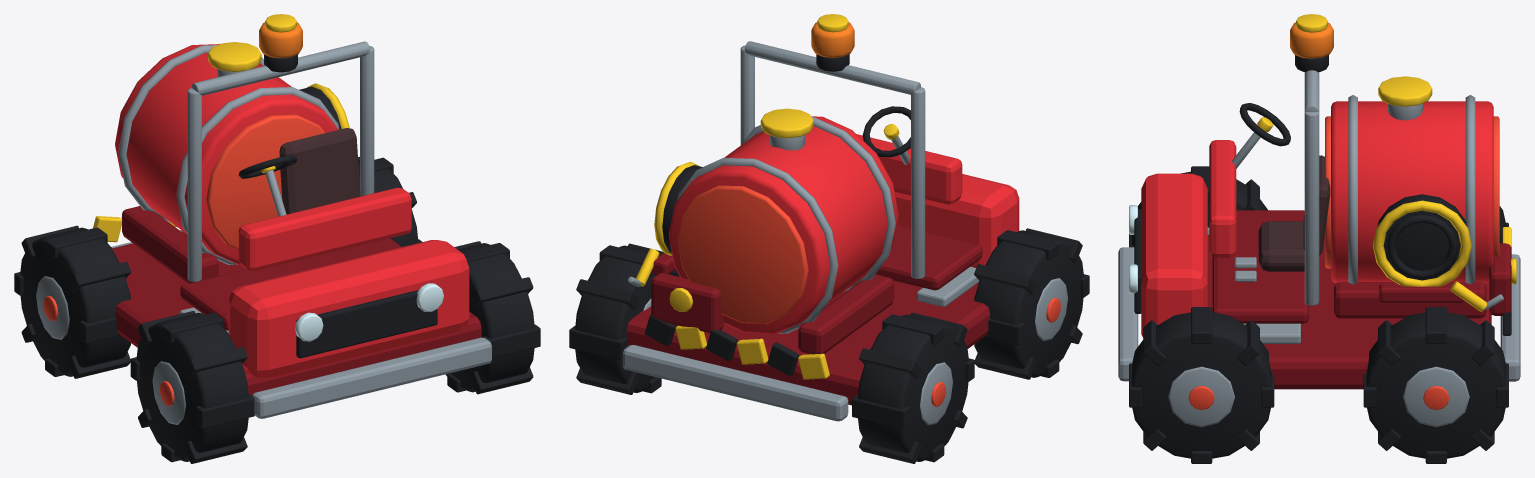
Rendered from FTF_Vehicle_FuelTruck_Red_4m.glb.
3 renders of one model, left to right at view 1: azimuth 30°, elevation 25°; view 2: azimuth 150°, elevation 25°; view 3: azimuth 270°, elevation 25°, orthographic. The views are drawn at different scales.
Parts seen in each view (by area): view 1: Short_Cab_Nose, Fuel_Tank, Wheel_FL_Tire, Wheel_RL_Tire, Dashboard, Main_Chassis, Tank_Front_End, Front_Bumper, Driver_Seat_Back, Wheel_FR_Tire, Wheel_FL, Front_Grille (+17 smaller); view 2: Fuel_Tank, Tank_Rear_End, Main_Chassis, Wheel_RL_Tire, Wheel_FL_Tire, Rear_Bumper, Short_Cab_Nose, Wheel_RR_Tire, Wheel_RL, Wheel_FL, Tank_Left_Saddle, Driver_Platform (+22 smaller); view 3: Fuel_Tank, Wheel_FR_Tire, Wheel_RR_Tire, Short_Cab_Nose, Main_Chassis, Driver_Platform, Wheel_FR, Wheel_RR, Hose_Reel_Drum, Tank_Right_Saddle, Dashboard, SafetyBar_Right (+28 smaller).
Part boxes in pixels (x1=…): Short_Cab_Nose: x1=228, y1=240, x2=469, y2=378; Fuel_Tank: x1=115, y1=44, x2=338, y2=264; Wheel_FL_Tire: x1=136, y1=312, x2=248, y2=461; Wheel_RL_Tire: x1=20, y1=227, x2=130, y2=376; Dashboard: x1=238, y1=187, x2=411, y2=271; Main_Chassis: x1=112, y1=231, x2=481, y2=395; Tank_Front_End: x1=206, y1=114, x2=324, y2=249; Front_Bumper: x1=252, y1=337, x2=491, y2=418; Driver_Seat_Back: x1=279, y1=128, x2=360, y2=214; Wheel_FR_Tire: x1=445, y1=243, x2=534, y2=392; Wheel_FL: x1=130, y1=311, x2=254, y2=463; Front_Grille: x1=296, y1=290, x2=437, y2=358; Fuel_Tank: x1=668, y1=116, x2=898, y2=334; Tank_Rear_End: x1=677, y1=185, x2=808, y2=323; Main_Chassis: x1=626, y1=280, x2=990, y2=405; Wheel_RL_Tire: x1=857, y1=314, x2=968, y2=461; Wheel_FL_Tire: x1=974, y1=230, x2=1083, y2=377; Rear_Bumper: x1=622, y1=345, x2=848, y2=421; Short_Cab_Nose: x1=894, y1=174, x2=1019, y2=267; Wheel_RR_Tire: x1=575, y1=245, x2=679, y2=392; Wheel_RL: x1=852, y1=312, x2=974, y2=463; Wheel_FL: x1=974, y1=228, x2=1089, y2=379; Tank_Left_Saddle: x1=798, y1=274, x2=893, y2=354; Driver_Platform: x1=875, y1=225, x2=982, y2=290; Fuel_Tank: x1=1331, y1=101, x2=1493, y2=283; Wheel_FR_Tire: x1=1131, y1=312, x2=1271, y2=458; Wheel_RR_Tire: x1=1366, y1=312, x2=1506, y2=458; Short_Cab_Nose: x1=1141, y1=173, x2=1207, y2=337; Main_Chassis: x1=1207, y1=234, x2=1491, y2=389; Driver_Platform: x1=1212, y1=210, x2=1308, y2=323; Wheel_FR: x1=1129, y1=307, x2=1274, y2=463; Wheel_RR: x1=1363, y1=307, x2=1508, y2=463; Hose_Reel_Drum: x1=1377, y1=194, x2=1466, y2=280; Tank_Right_Saddle: x1=1334, y1=282, x2=1486, y2=318; Dashboard: x1=1209, y1=140, x2=1236, y2=257; SafetyBar_Right: x1=1304, y1=112, x2=1319, y2=305.
Bounding box in the file's own units: 3.95 × 3.97 × 4.01.
